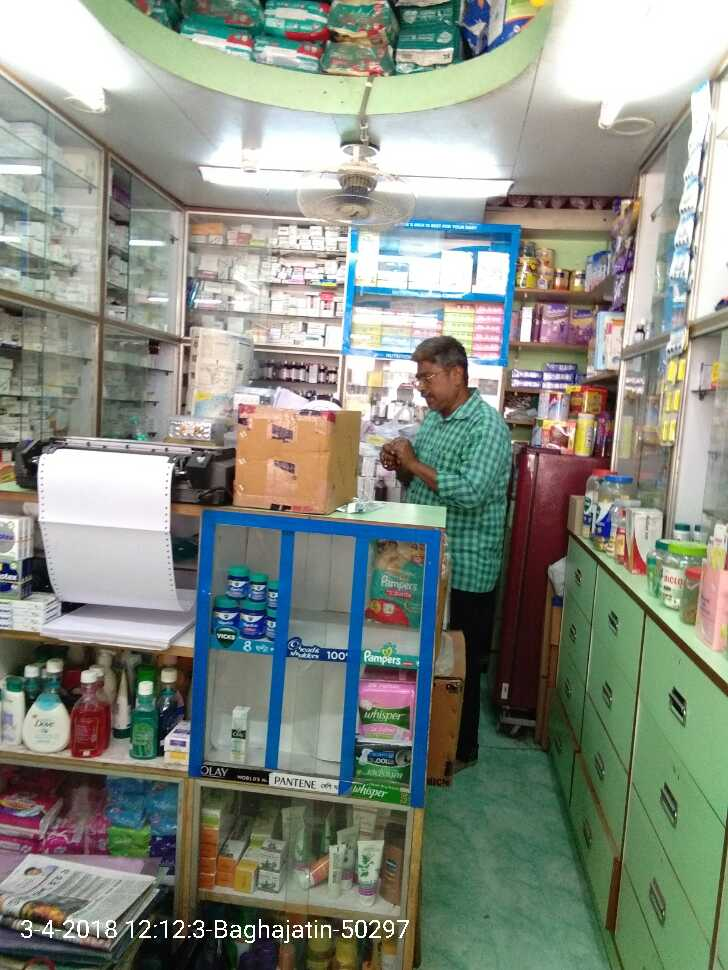vicks: (214, 603, 239, 637), (239, 605, 264, 637), (226, 566, 247, 601), (247, 574, 264, 601), (266, 581, 278, 607), (266, 607, 274, 640)
